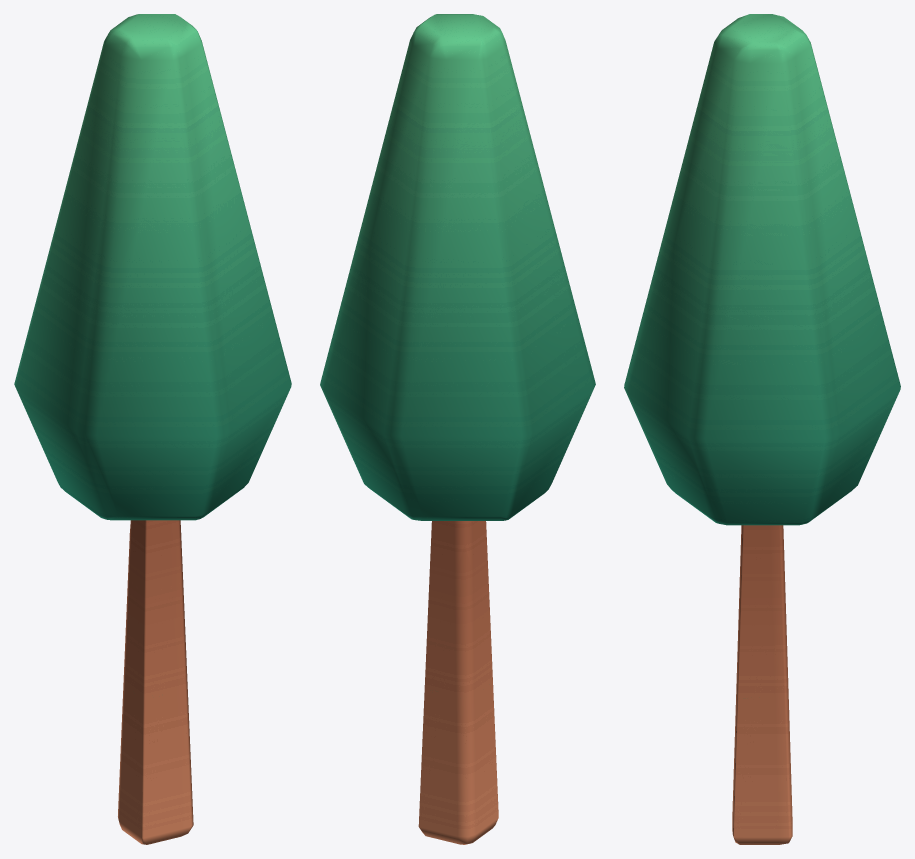
The model's file is tree-large.glb.
The picture shows the model from 3 angles, left to right: view 1: azimuth 30°, elevation 25°; view 2: azimuth 150°, elevation 25°; view 3: azimuth 270°, elevation 25°; orthographic projection.
Visible parts, largest first — view 1: tree-large; view 2: tree-large; view 3: tree-large.
Boxes of the visible parts, <box> form: tree-large: <box>14,14,291,844</box>; tree-large: <box>320,14,595,844</box>; tree-large: <box>624,14,900,844</box>.
Size of the model in its own units: 0.2104 by 0.767 by 0.2377.
1 material, 1 textured.
